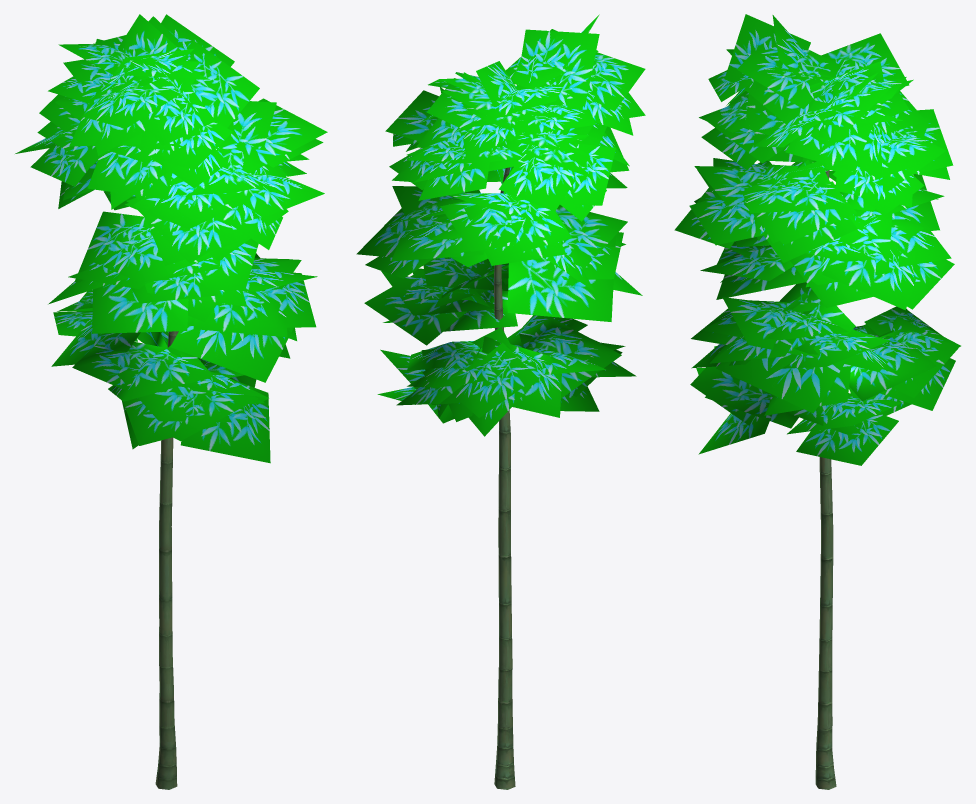
The model's file is Homeworld_Exterior_Common_Plant_Tree_19_Lod0.fbx.
3 renders of one model, left to right at view 1: azimuth 30°, elevation 25°; view 2: azimuth 150°, elevation 25°; view 3: azimuth 270°, elevation 25°, orthographic. The views are drawn at different scales.
Parts seen in each view (by area): view 1: Area_Ly_Tree_QC_Bamboo_03_Leaf_Lod0, Area_Ly_Tree_QC_Bamboo_03_Bark_Lod0; view 2: Area_Ly_Tree_QC_Bamboo_03_Leaf_Lod0, Area_Ly_Tree_QC_Bamboo_03_Bark_Lod0; view 3: Area_Ly_Tree_QC_Bamboo_03_Leaf_Lod0, Area_Ly_Tree_QC_Bamboo_03_Bark_Lod0.
Boxes of the visible parts, x1,y1,x2,y2 form: Area_Ly_Tree_QC_Bamboo_03_Leaf_Lod0: [15, 14, 327, 463]; Area_Ly_Tree_QC_Bamboo_03_Bark_Lod0: [155, 331, 178, 789]; Area_Ly_Tree_QC_Bamboo_03_Leaf_Lod0: [356, 14, 645, 436]; Area_Ly_Tree_QC_Bamboo_03_Bark_Lod0: [494, 167, 515, 789]; Area_Ly_Tree_QC_Bamboo_03_Leaf_Lod0: [674, 14, 960, 465]; Area_Ly_Tree_QC_Bamboo_03_Bark_Lod0: [815, 170, 836, 789].
Bounding box in the file's own units: 5.15 × 14.51 × 5.07.
